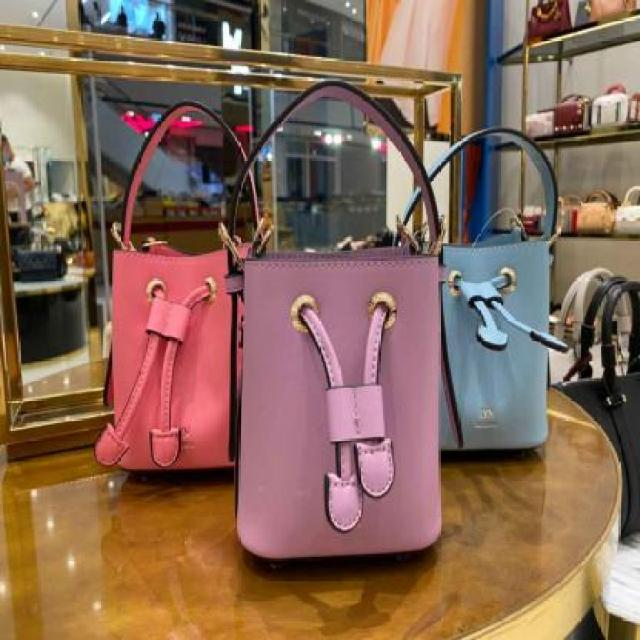Bag: (193, 28, 458, 589), (77, 50, 269, 493), (385, 74, 567, 475)
